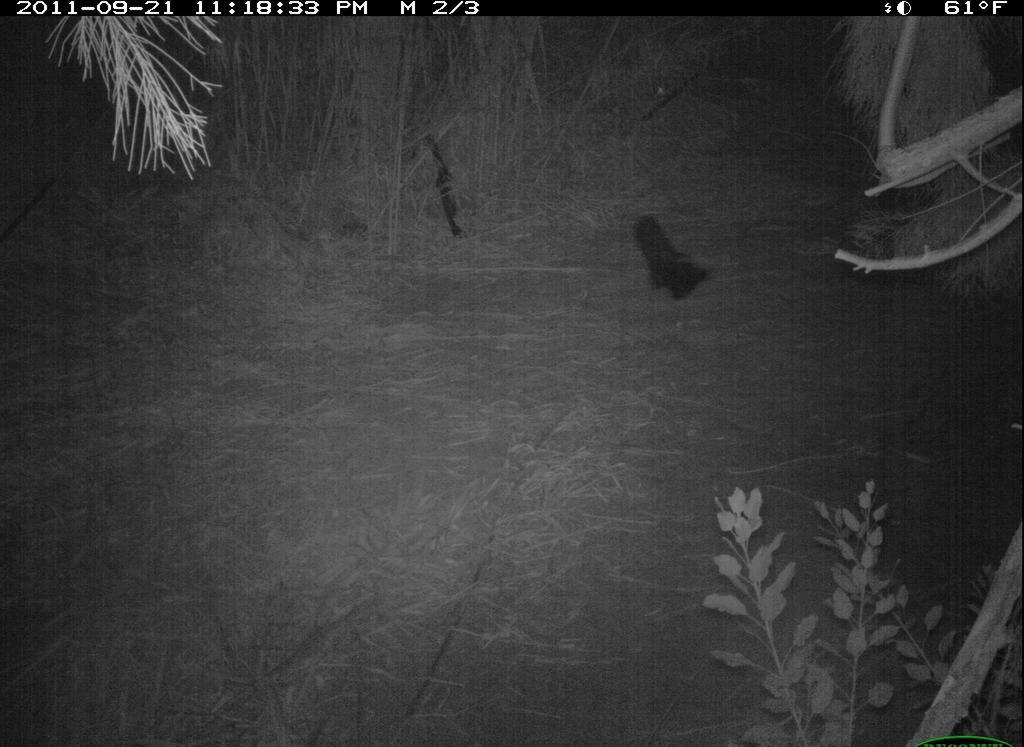skunk: (635, 208, 715, 304)
